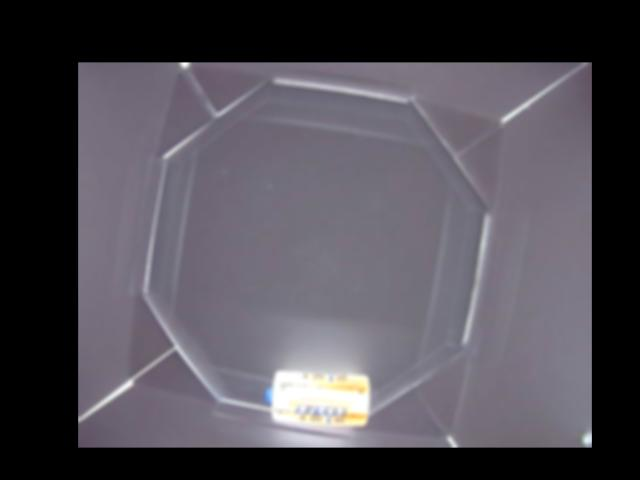Battery: (265, 372, 370, 425)
